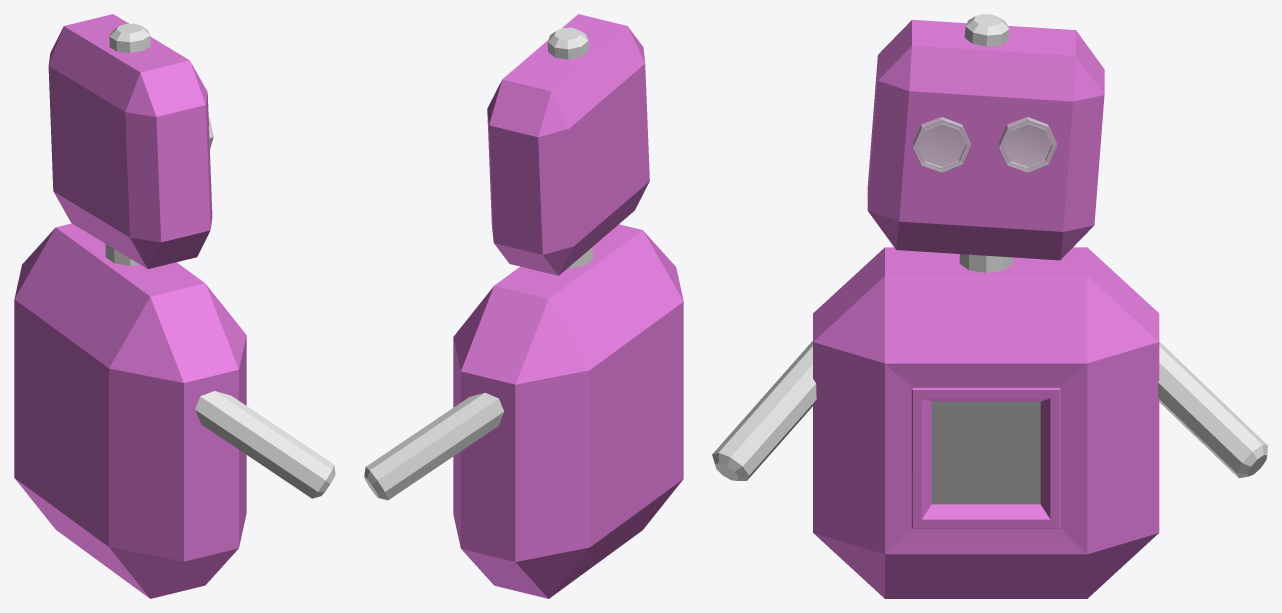
File: Female Robot.fbx
3 views of the same model, side by side, from view 1: azimuth 30°, elevation 25°; view 2: azimuth 150°, elevation 25°; view 3: azimuth 270°, elevation 25° (orthographic). The views are drawn at different scales.
Parts seen in each view (by area): view 1: pCylinder8; view 2: pCylinder8; view 3: pCylinder8.
Part boxes in pixels (left/top/right/bottom): pCylinder8: left=14, top=14, right=335, bottom=598; pCylinder8: left=364, top=14, right=683, bottom=598; pCylinder8: left=712, top=14, right=1267, bottom=598.
Bounding box in the file's own units: 1.91 × 6.25 × 5.56.
